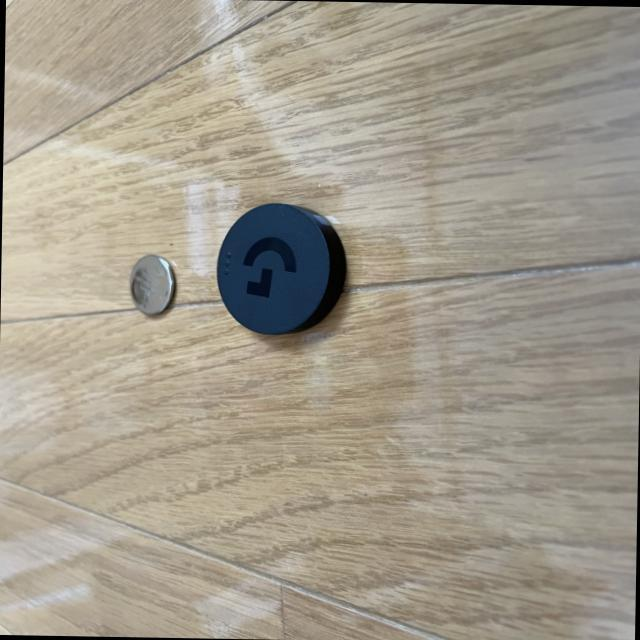COIN: (128, 252, 176, 316)
